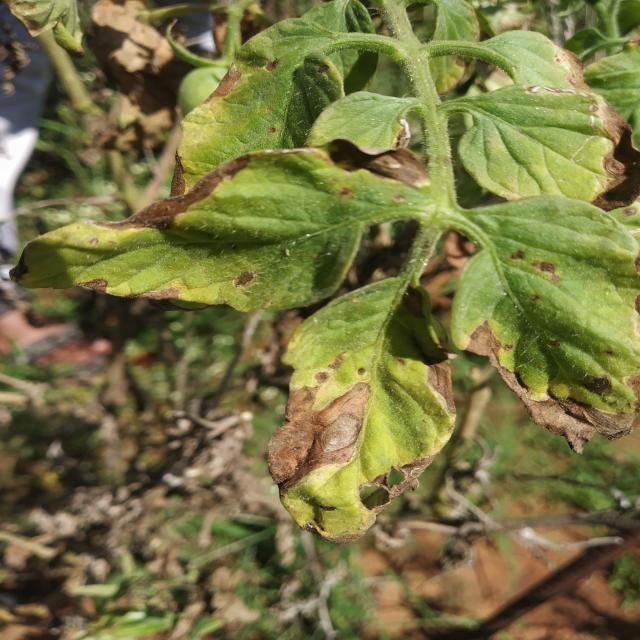Tomato mosaic virus leaf: (6, 149, 372, 314), (260, 280, 456, 548), (450, 228, 640, 457), (456, 83, 630, 204), (176, 42, 338, 142)
